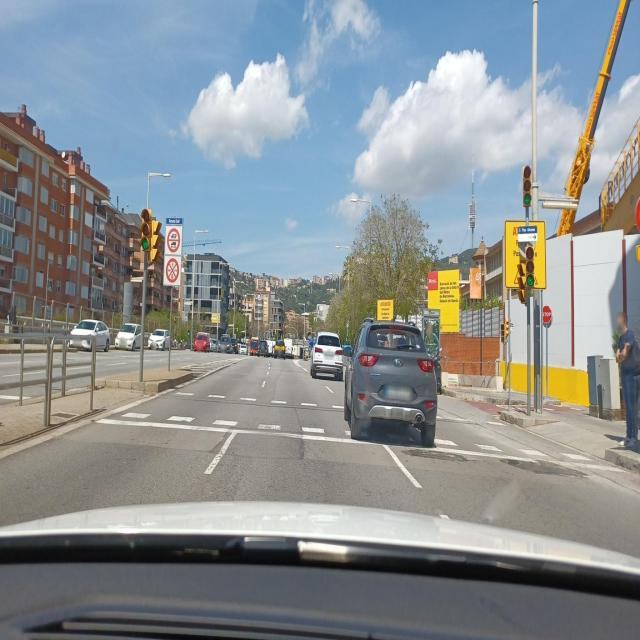bike: (432, 354, 445, 393)
car: (343, 317, 438, 446), (310, 332, 344, 381), (68, 319, 110, 353), (115, 322, 143, 350), (148, 328, 170, 350), (273, 338, 293, 358), (193, 332, 211, 352), (226, 337, 240, 354), (248, 338, 261, 356), (209, 337, 219, 351)
